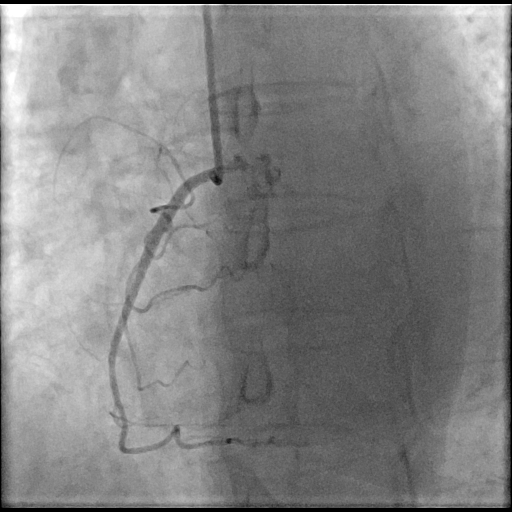RCA: (109, 166, 223, 453)
catherter: (203, 6, 223, 185)
